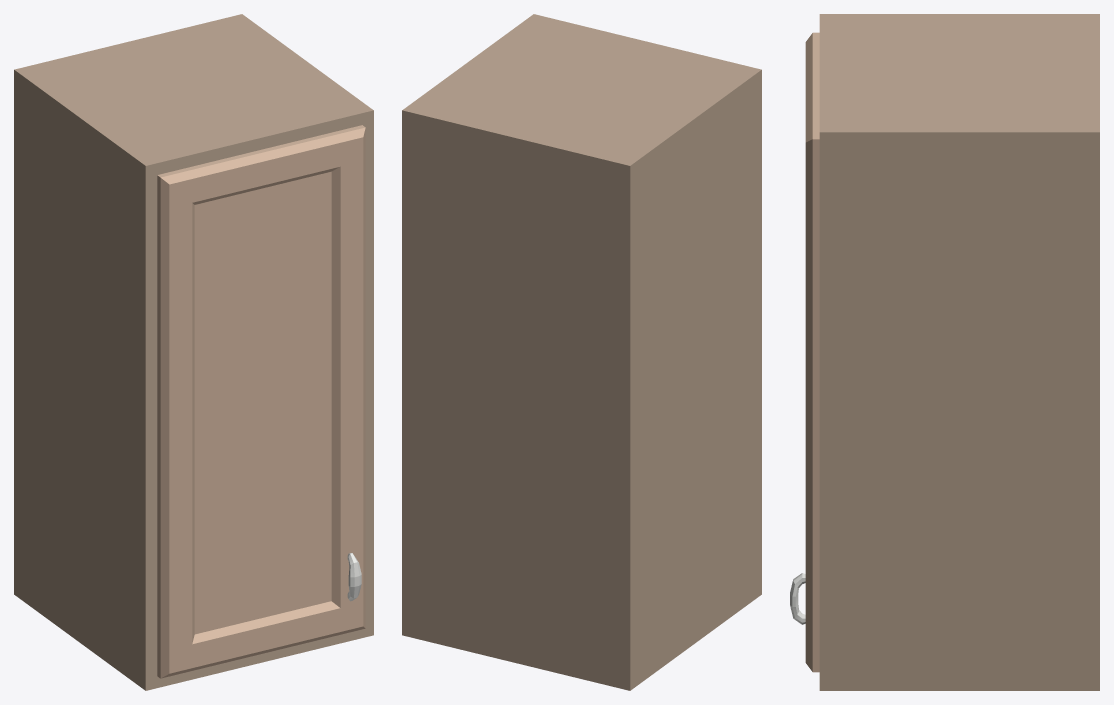
File: Structure_Kitchen_Cabinet_Wall_Half.glb
The picture shows the model from 3 angles, left to right: view 1: azimuth 30°, elevation 25°; view 2: azimuth 150°, elevation 25°; view 3: azimuth 270°, elevation 25°; orthographic projection. The views are drawn at different scales.
Visible parts, largest first — view 1: Structure_Kitchen_Cabinet_Wall_Half; view 2: Structure_Kitchen_Cabinet_Wall_Half; view 3: Structure_Kitchen_Cabinet_Wall_Half.
Part boxes in pixels (x1,y1,x2,y2): Structure_Kitchen_Cabinet_Wall_Half: [14, 14, 373, 690]; Structure_Kitchen_Cabinet_Wall_Half: [402, 14, 761, 690]; Structure_Kitchen_Cabinet_Wall_Half: [790, 14, 1099, 690].
Bounding box in the file's own units: 0.5 × 1.1 × 0.5531.
